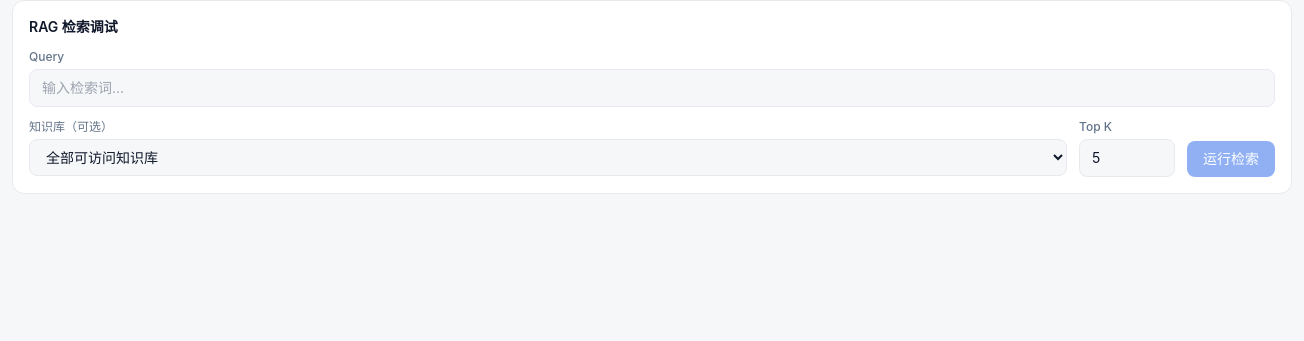
Test: RAGDebugPanel › 无结果时显示 no_result_reason
Type "不存在的query" into the field with placeholder "输入检索词..." at (652, 88), box 29,69 -> 1275,107
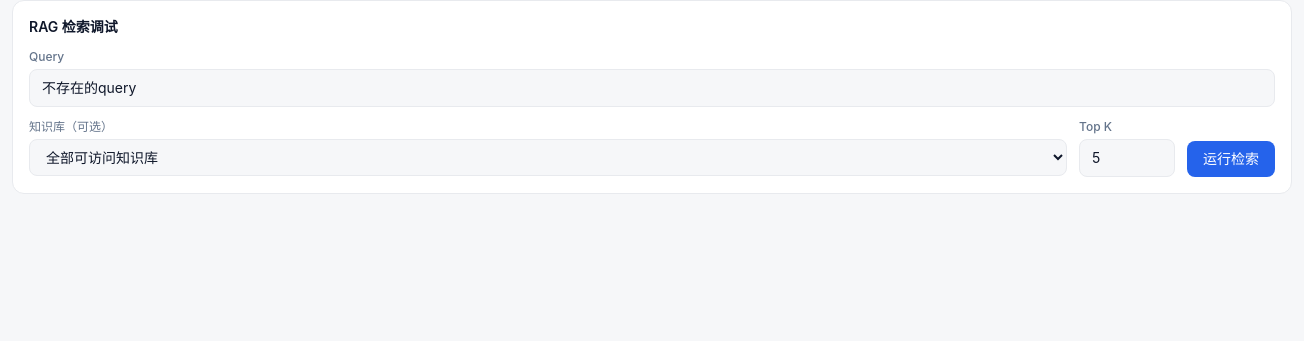
Click the button "运行检索" at (1231, 159), box 1187,141 -> 1275,177
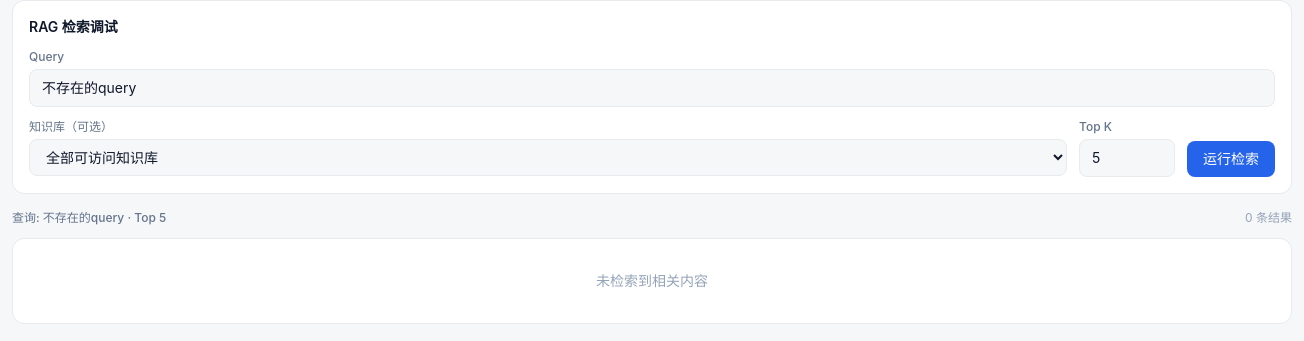
Expected: the text "未检索到相关内容" is shown, 596,272 -> 708,289
